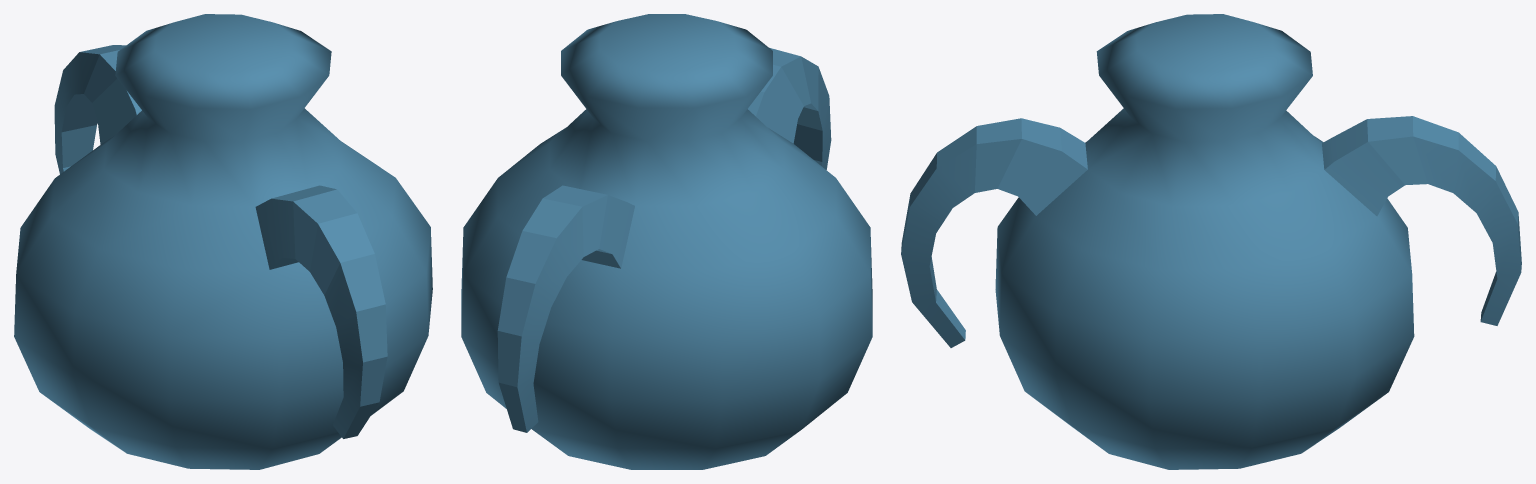
File: test_jar.gltf
The picture shows the model from 3 angles, left to right: view 1: azimuth 30°, elevation 25°; view 2: azimuth 150°, elevation 25°; view 3: azimuth 270°, elevation 25°; orthographic projection.
Visible parts, largest first — view 1: Test_Jar; view 2: Test_Jar; view 3: Test_Jar.
Boxes of the visible parts, box(x1,y1,x2,y2) form: Test_Jar: box(14, 14, 432, 469); Test_Jar: box(461, 14, 872, 469); Test_Jar: box(901, 14, 1521, 469).
Size of the model in its own units: 10.13 by 10.23 by 15.02.
